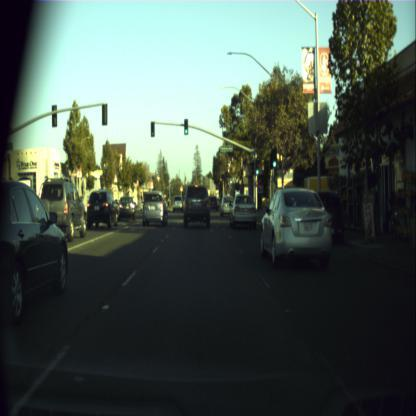Green: (272, 151, 276, 168), (184, 118, 188, 134), (256, 160, 258, 174)
GreenLeft: (150, 122, 154, 136)
